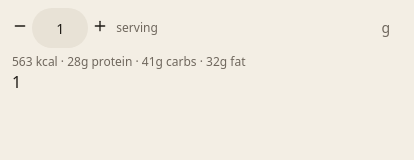
ServingAmount › logs two sandwiches, and their 438 g, after two taps of +
The image size is (414, 160).
Click the button named "Increase" at (100, 26), box [92, 18, 108, 34]
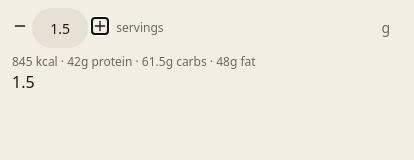
Click the button named "Increase" at (100, 26), box [92, 18, 108, 34]
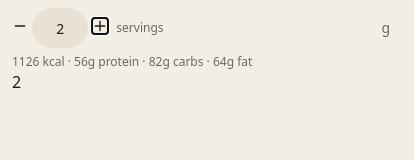
Result: the text with test id "amount" reads "2" at [12, 71, 21, 93]
Click the button named "Enter the amount in grams" at (386, 28), box [369, 8, 402, 48]
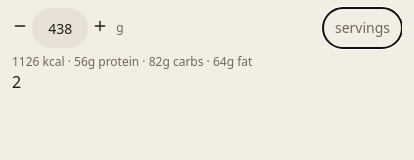
Result: the field named "Amount in grams" holds "438" at [32, 8, 88, 48]
